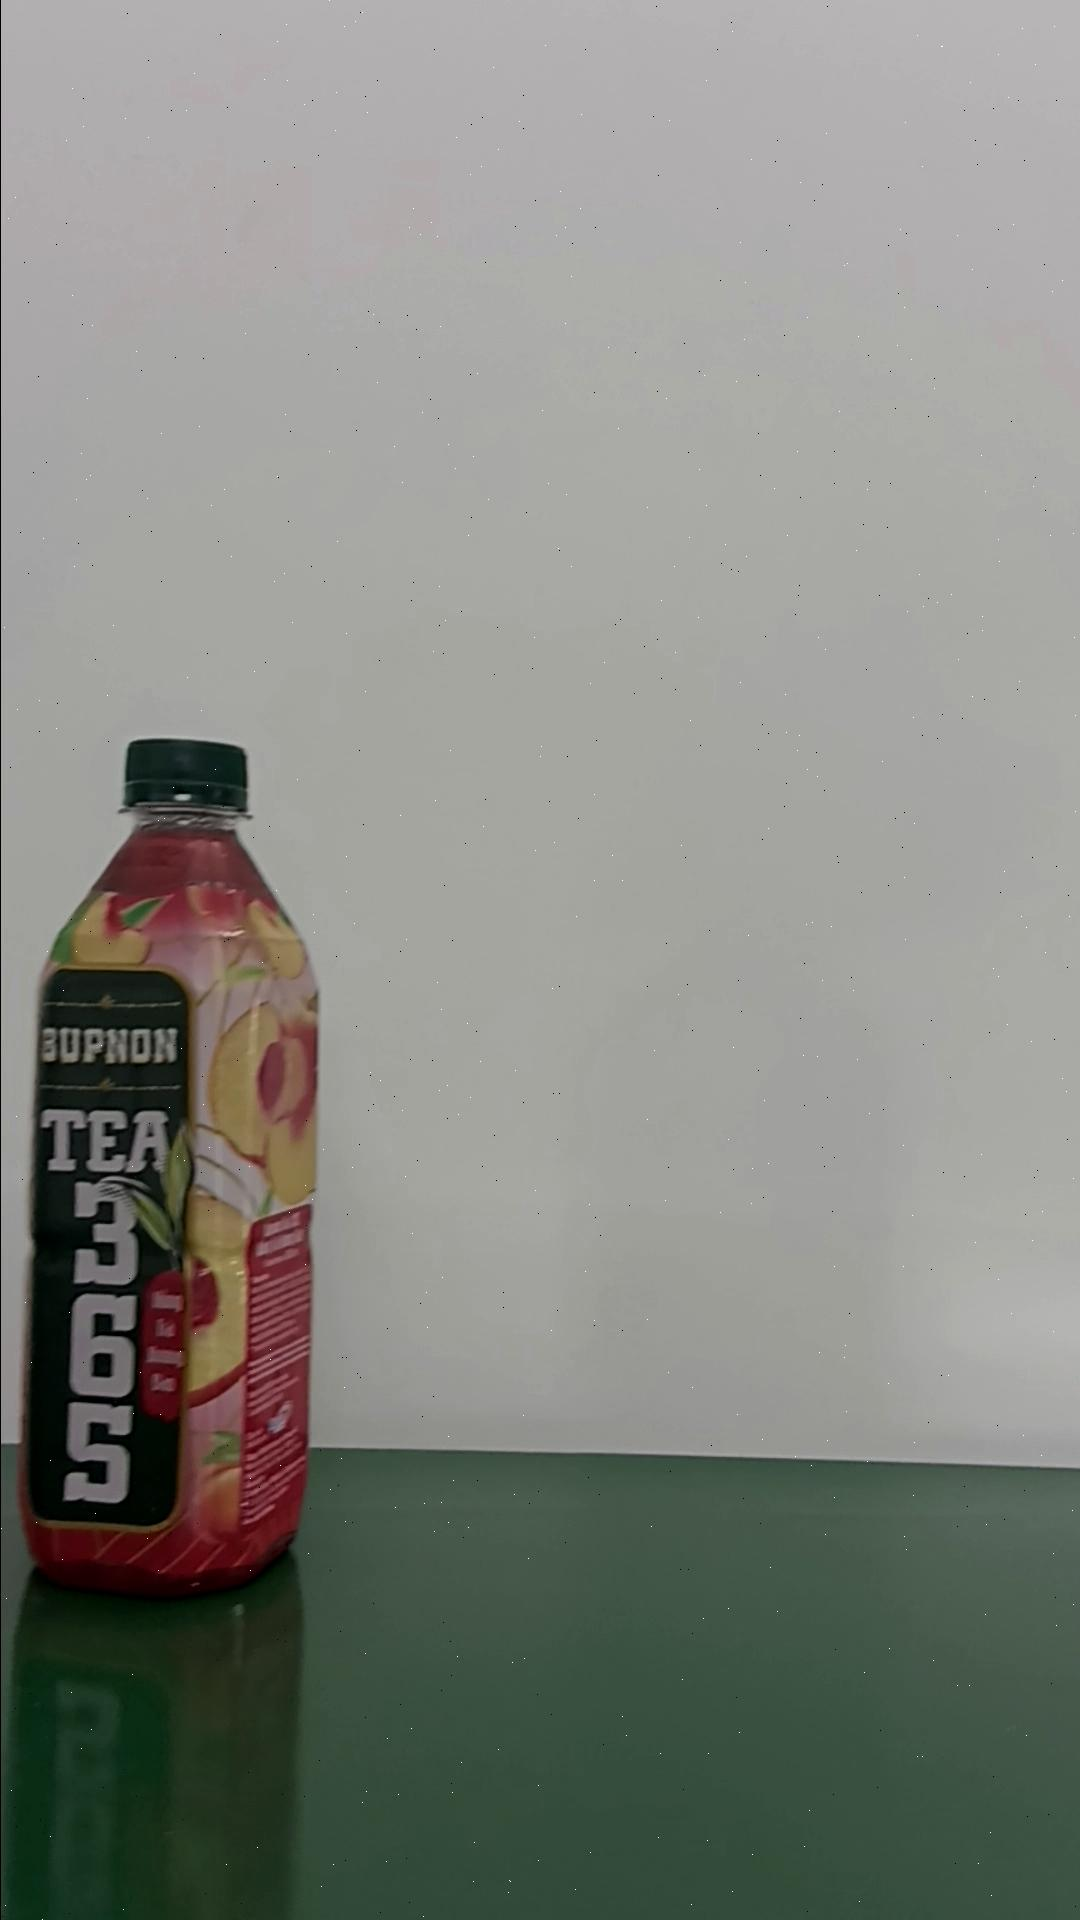khong loi: (17, 735, 320, 1598)
